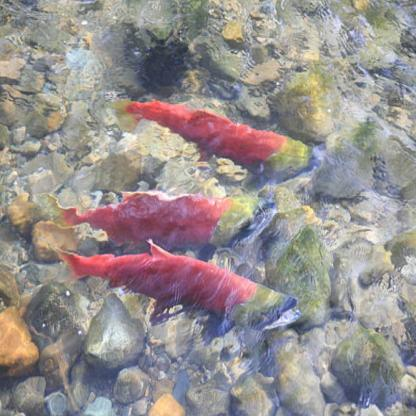sockeye: (61, 240, 297, 349), (112, 90, 312, 180), (35, 191, 274, 236)
